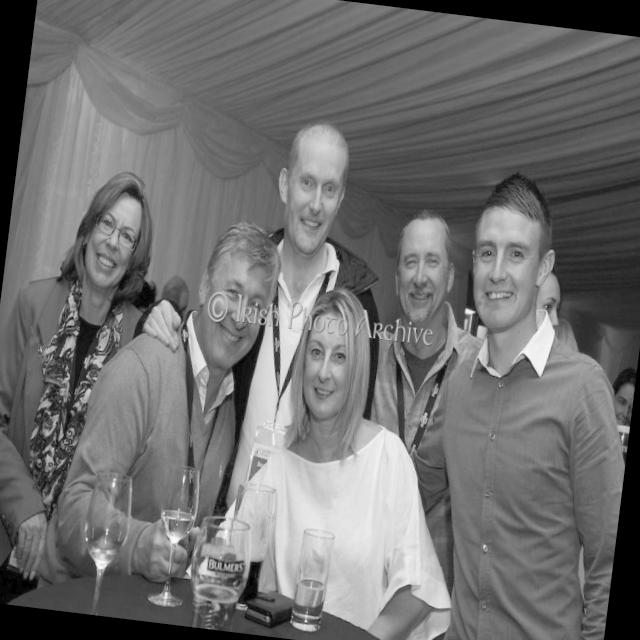person: (390, 170, 640, 640), (217, 276, 494, 640), (48, 200, 295, 586), (0, 159, 186, 602), (352, 200, 499, 490), (242, 109, 387, 348)
